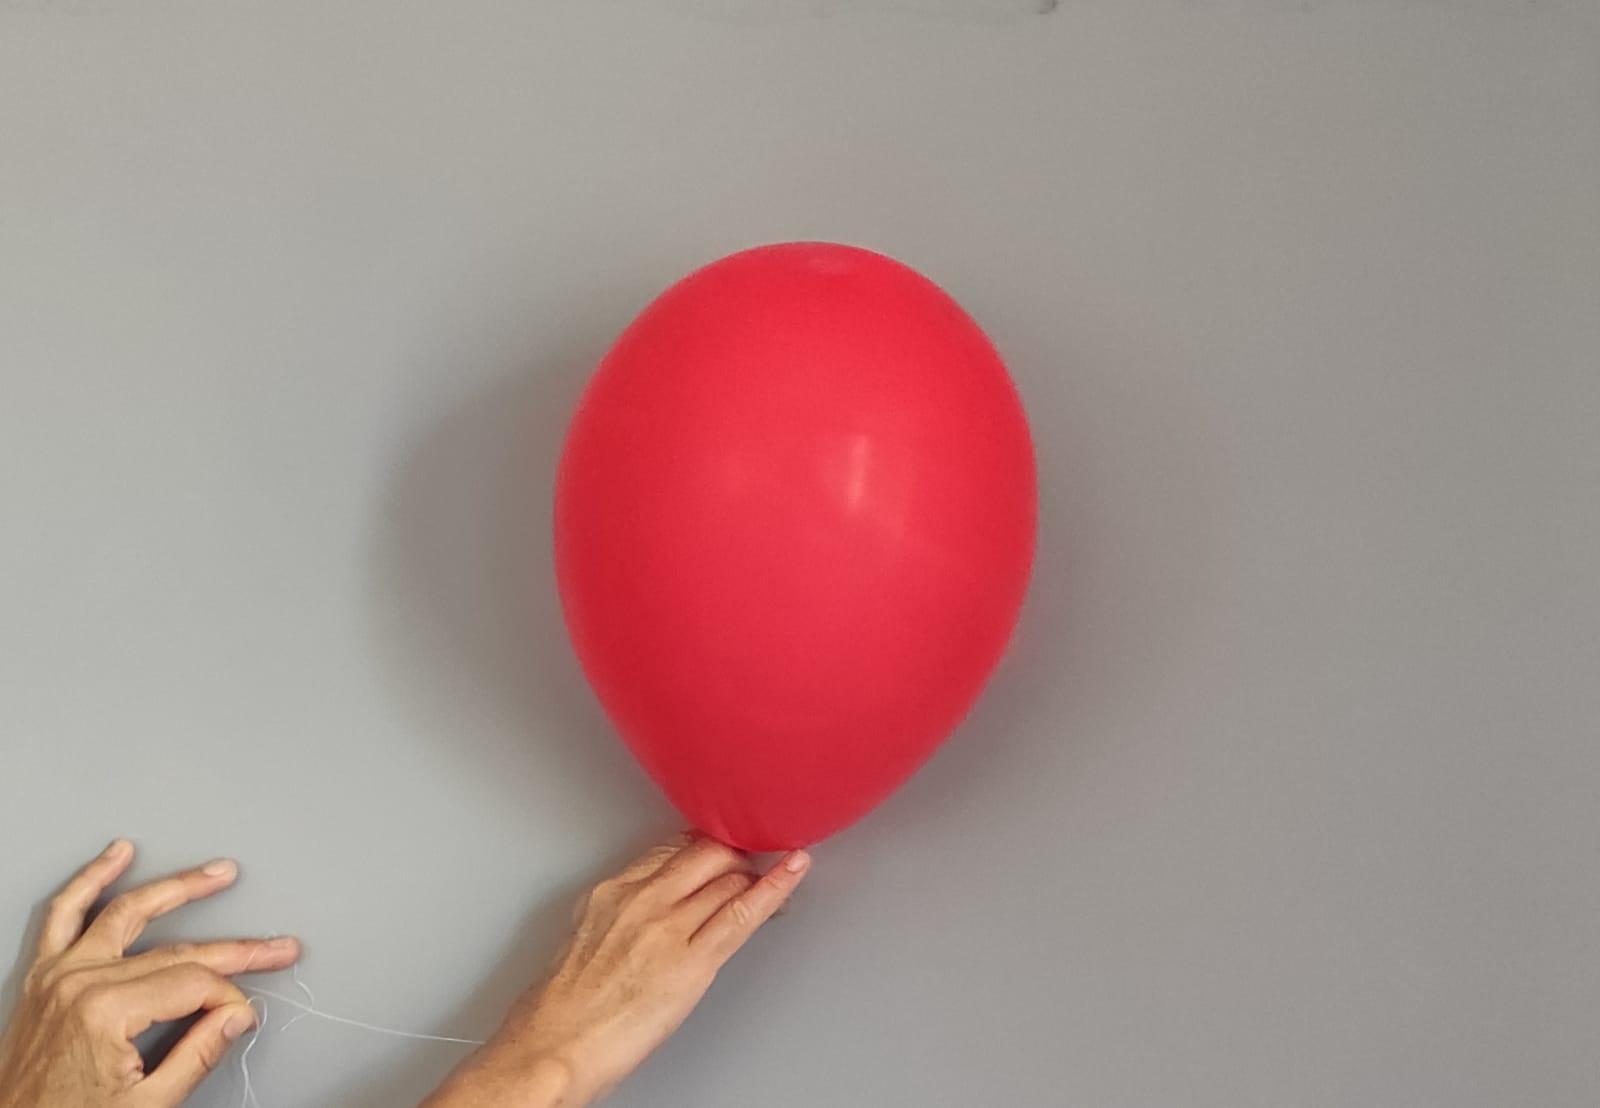red: (548, 233, 1046, 864)
